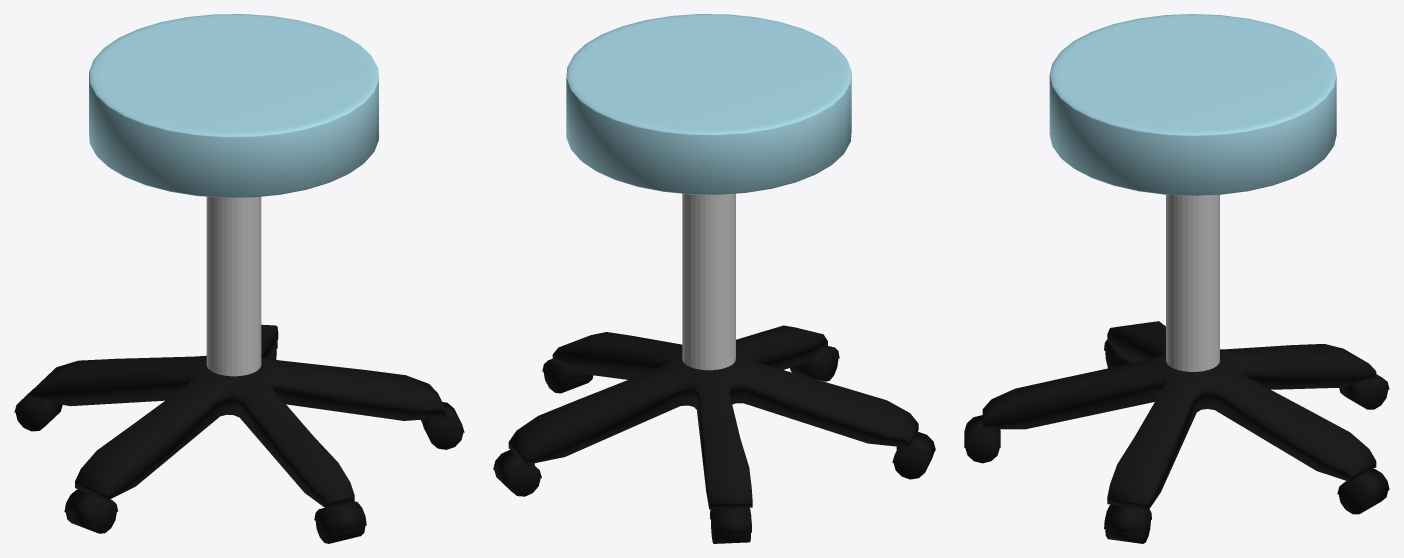
File: RollingChair.fbx
3 views of the same model, side by side, from view 1: azimuth 30°, elevation 25°; view 2: azimuth 150°, elevation 25°; view 3: azimuth 270°, elevation 25° (orthographic).
Parts seen in each view (by area): view 1: Chair - seat, Chair - plastic, Chair - rolling, ChairWheelCover, ChairWheelCover.001, ChairWheel.004, ChairWheel.002, ChairWheel.001, ChairWheel; view 2: Chair - seat, Chair - plastic, Chair - rolling, ChairWheelCover.004, ChairWheel.001, ChairWheel.003, ChairWheel.002, ChairWheel, ChairWheelCover.003, ChairWheelCover.001; view 3: Chair - seat, Chair - plastic, Chair - rolling, ChairWheelCover.002, ChairWheel, ChairWheel.003, ChairWheel.004, ChairWheelCover.003, ChairWheel.002.
Boxes of the visible parts, x1=… form: Chair - seat: x1=89, y1=14, x2=378, y2=197; Chair - plastic: x1=30, y1=324, x2=446, y2=508; Chair - rolling: x1=206, y1=196, x2=261, y2=376; ChairWheelCover: x1=314, y1=501, x2=366, y2=533; ChairWheelCover.001: x1=64, y1=489, x2=118, y2=522; ChairWheel.004: x1=15, y1=400, x2=62, y2=431; ChairWheel.002: x1=422, y1=418, x2=463, y2=449; ChairWheel.001: x1=66, y1=501, x2=116, y2=533; ChairWheel: x1=315, y1=510, x2=365, y2=543; Chair - seat: x1=566, y1=14, x2=851, y2=194; Chair - plastic: x1=508, y1=325, x2=918, y2=509; Chair - rolling: x1=682, y1=193, x2=735, y2=370; ChairWheelCover.004: x1=710, y1=507, x2=751, y2=534; ChairWheel.001: x1=893, y1=448, x2=933, y2=479; ChairWheel.003: x1=494, y1=465, x2=540, y2=496; ChairWheel.002: x1=543, y1=361, x2=593, y2=393; ChairWheel: x1=790, y1=348, x2=838, y2=381; ChairWheelCover.003: x1=493, y1=450, x2=541, y2=484; ChairWheelCover.001: x1=892, y1=432, x2=935, y2=465; Chair - seat: x1=1049, y1=14, x2=1336, y2=195; Chair - plastic: x1=982, y1=321, x2=1376, y2=509; Chair - rolling: x1=1166, y1=195, x2=1219, y2=371; ChairWheelCover.002: x1=1104, y1=504, x2=1151, y2=533; ChairWheel: x1=965, y1=432, x2=999, y2=463; ChairWheel.003: x1=1338, y1=483, x2=1387, y2=514; ChairWheel.004: x1=1339, y1=378, x2=1388, y2=409; ChairWheelCover.003: x1=1337, y1=469, x2=1389, y2=502; ChairWheel.002: x1=1105, y1=510, x2=1150, y2=543.
Size of the model in its own units: 51.36 by 48.43 by 48.85.
